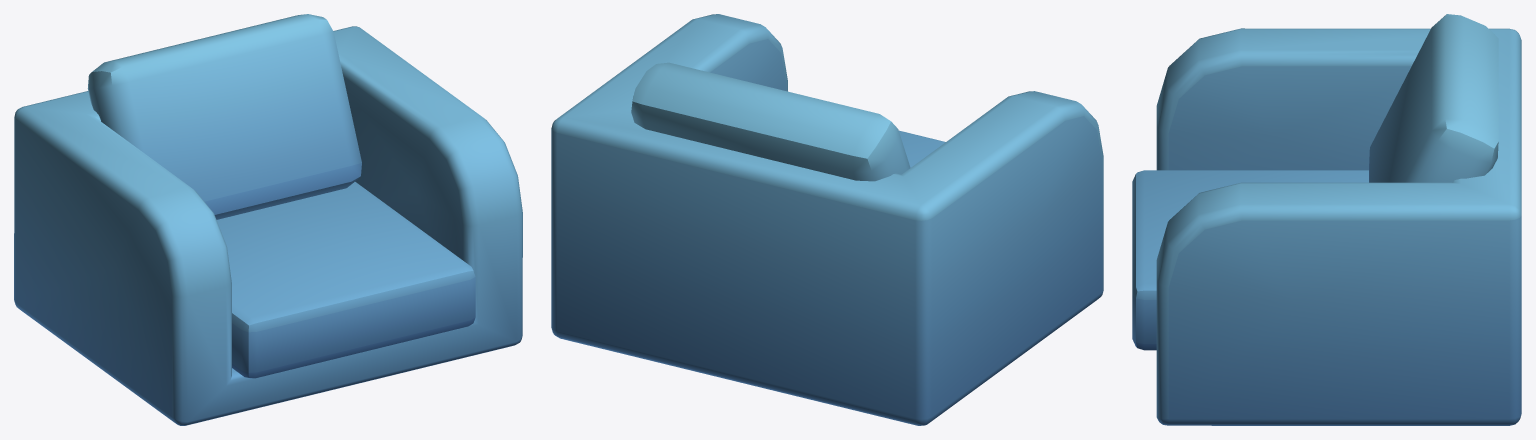
Rendered from kk_armchair.glb.
The picture shows the model from 3 angles, left to right: view 1: azimuth 30°, elevation 25°; view 2: azimuth 150°, elevation 25°; view 3: azimuth 270°, elevation 25°; orthographic projection. The views are drawn at different scales.
Parts seen in each view (by area): view 1: armchair; view 2: armchair; view 3: armchair.
Part boxes in pixels (left/top/right/bottom): armchair: left=14, top=14, right=522, bottom=425; armchair: left=551, top=14, right=1103, bottom=425; armchair: left=1132, top=14, right=1521, bottom=425.
Bounding box in the file's own units: 1.32 × 0.9 × 1.18.
1 material, 1 textured.
